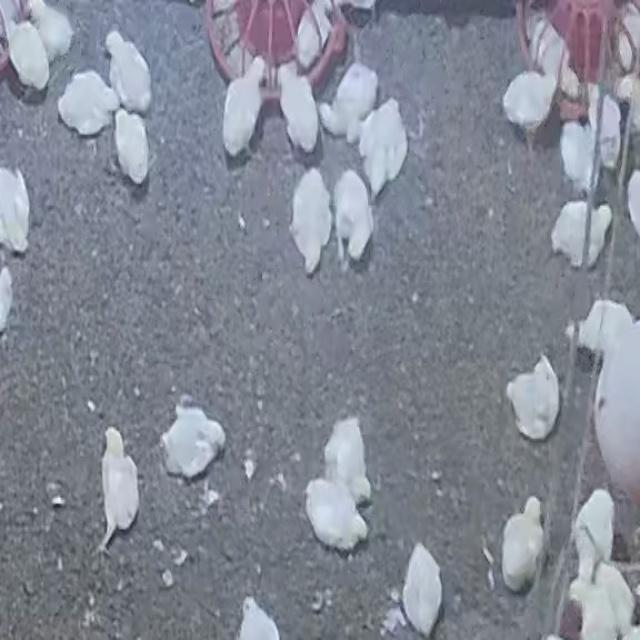chicken: (566, 553, 636, 636), (356, 97, 408, 195), (100, 426, 140, 552), (160, 404, 223, 481), (303, 479, 368, 553), (319, 62, 378, 141), (506, 355, 558, 441), (290, 168, 332, 274), (528, 18, 582, 100), (221, 52, 263, 156), (550, 200, 612, 270), (324, 415, 371, 507), (501, 496, 544, 593), (105, 29, 153, 113), (58, 70, 119, 136), (573, 488, 616, 580), (333, 167, 373, 264), (278, 63, 319, 154), (402, 545, 442, 637), (569, 299, 632, 357), (502, 70, 554, 136), (7, 22, 50, 92), (588, 92, 623, 172), (26, 0, 74, 56), (0, 166, 31, 252), (116, 110, 152, 184), (558, 120, 593, 191), (294, 0, 330, 67), (614, 1, 640, 73)
